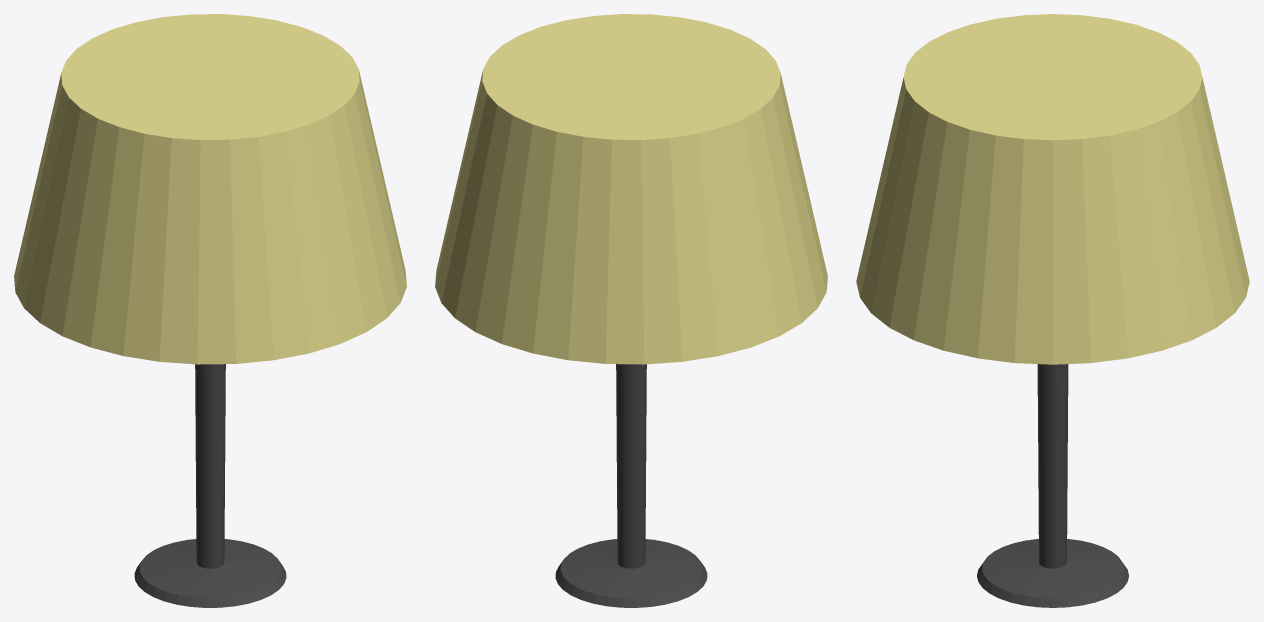
File: lampu meja.fbx
3 views of the same model, side by side, from view 1: azimuth 30°, elevation 25°; view 2: azimuth 150°, elevation 25°; view 3: azimuth 270°, elevation 25° (orthographic).
Visible parts, largest first — view 1: Cylinder, Cylinder.001; view 2: Cylinder, Cylinder.001; view 3: Cylinder, Cylinder.001.
Part boxes in pixels (x1=…): Cylinder: x1=14, y1=14, x2=406, y2=364; Cylinder.001: x1=134, y1=364, x2=286, y2=607; Cylinder: x1=435, y1=14, x2=827, y2=364; Cylinder.001: x1=555, y1=364, x2=707, y2=607; Cylinder: x1=856, y1=14, x2=1249, y2=364; Cylinder.001: x1=977, y1=364, x2=1128, y2=607.
Size of the model in its own units: 195 by 273 by 195.
